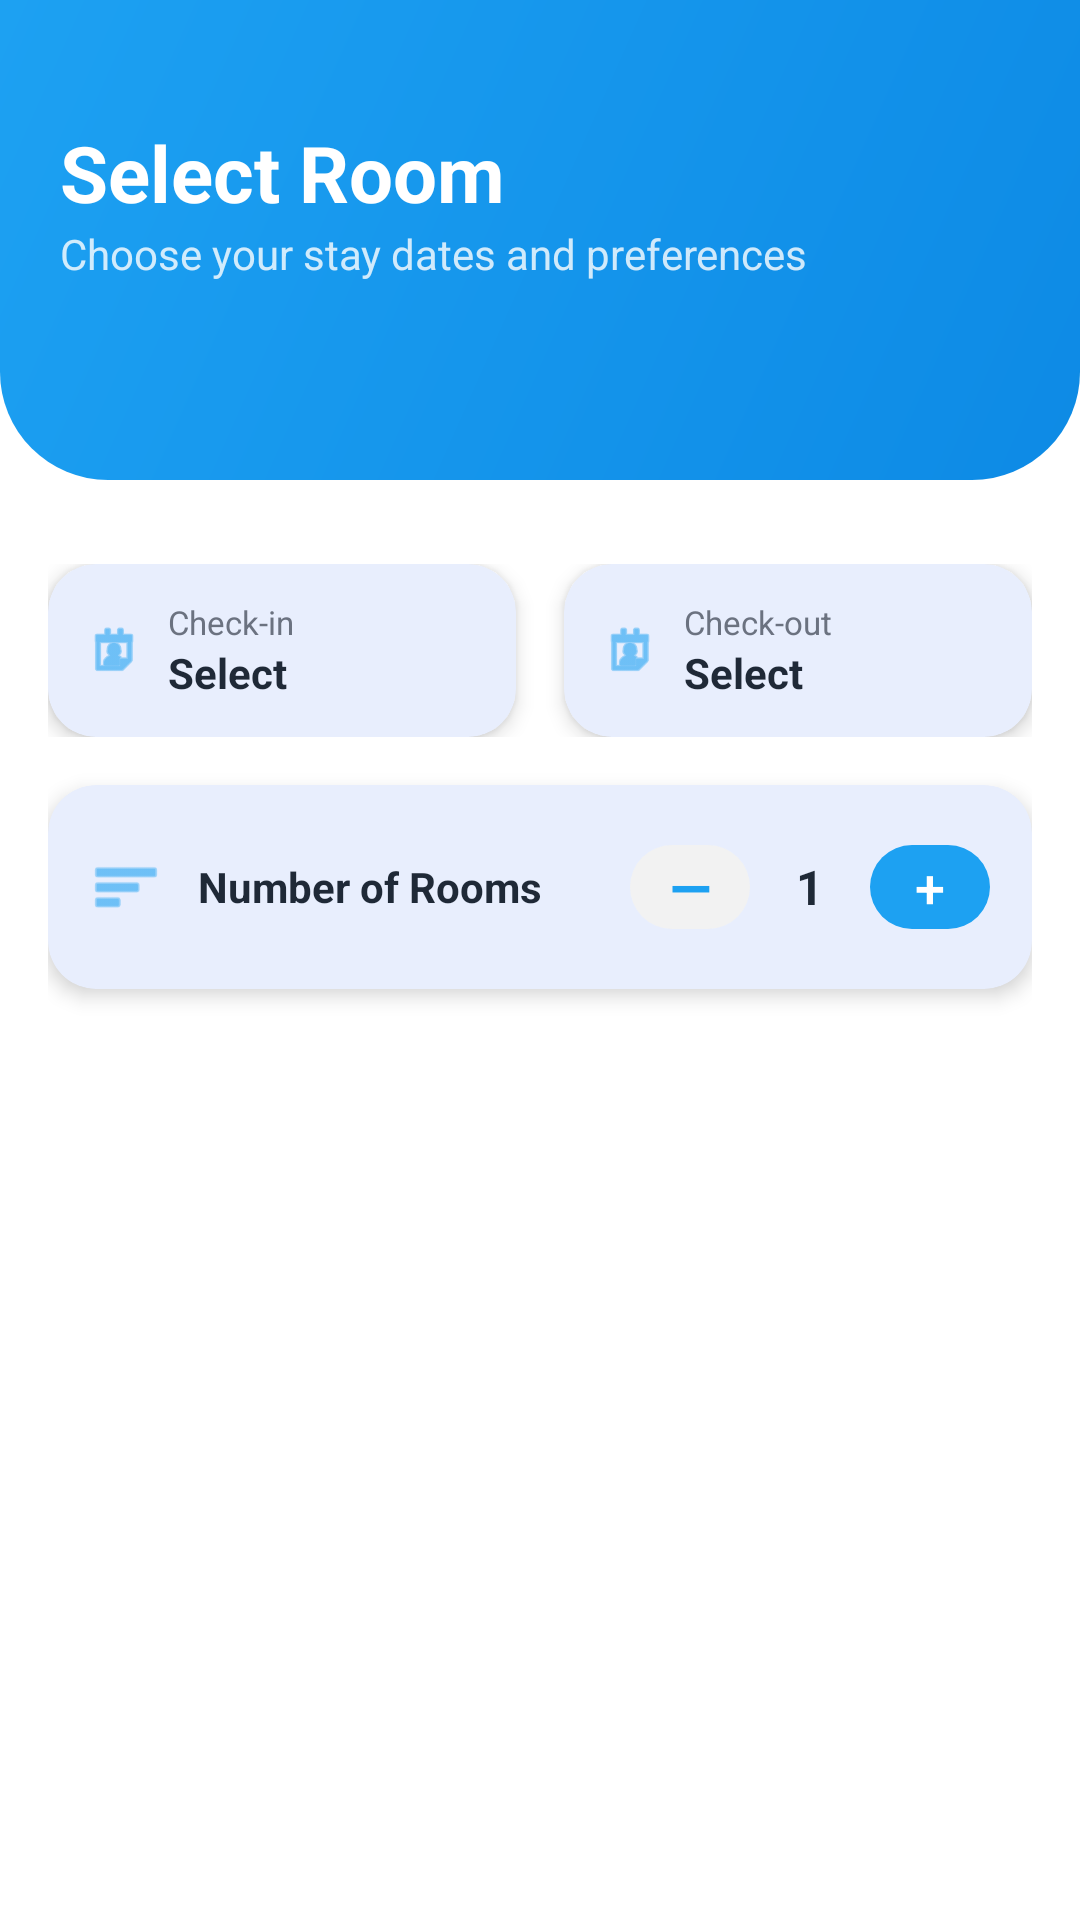

Screen size 1080 × 1920. Icon name, then its center in pixels as (x,y):
calendar: (114,649), (630,649)
sort by size: (126,887)
